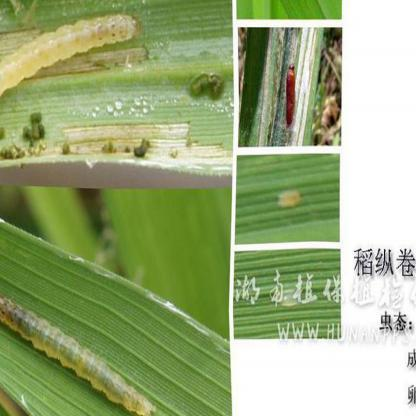leaf-folder: (6, 291, 162, 416), (1, 0, 165, 86), (279, 50, 303, 128), (271, 174, 311, 217)
